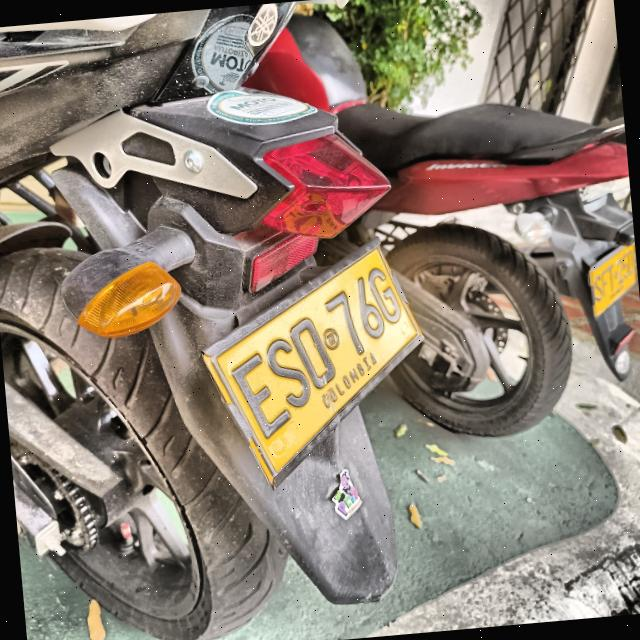plate: (210, 244, 421, 483)
